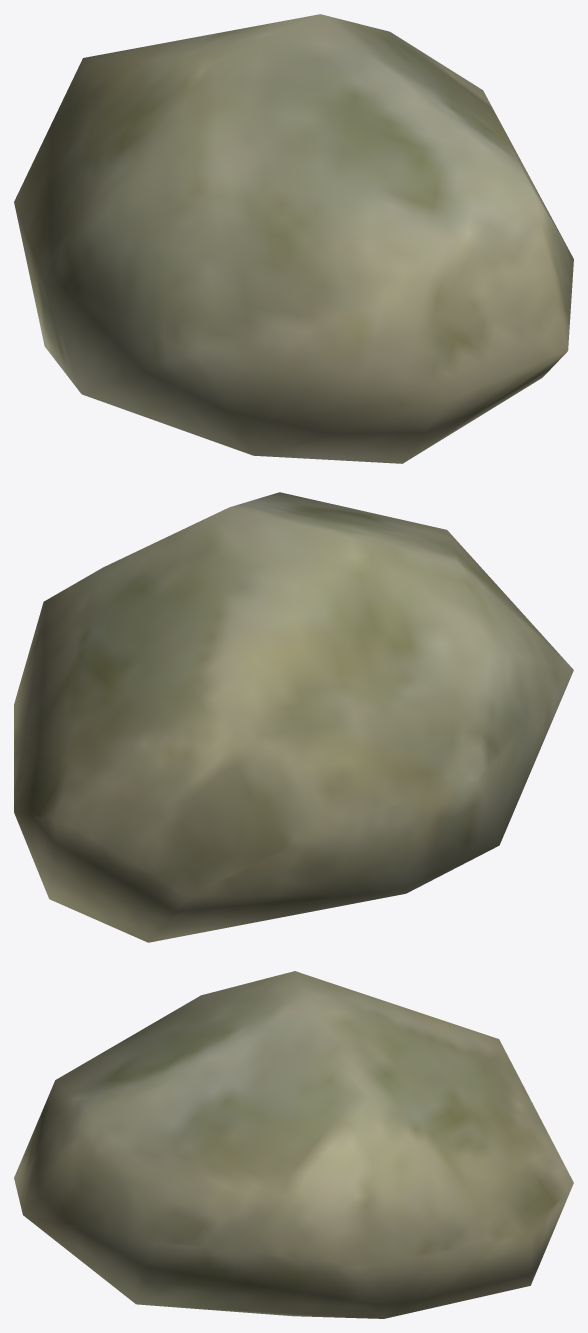
Rendered from SM_Pebble_3.fbx.
3 views of the same model, one above another, from view 1: azimuth 30°, elevation 25°; view 2: azimuth 150°, elevation 25°; view 3: azimuth 270°, elevation 25° (orthographic). The views are drawn at different scales.
Visible parts, largest first — view 1: SM_Pebble_3_LOD0; view 2: SM_Pebble_3_LOD0; view 3: SM_Pebble_3_LOD0.
Boxes of the visible parts, x1,y1,x2,y2 form: SM_Pebble_3_LOD0: (14, 14, 573, 463); SM_Pebble_3_LOD0: (14, 492, 573, 942); SM_Pebble_3_LOD0: (14, 971, 573, 1318).
Size of the model in its own units: 8.91 by 11.66 by 6.71.
